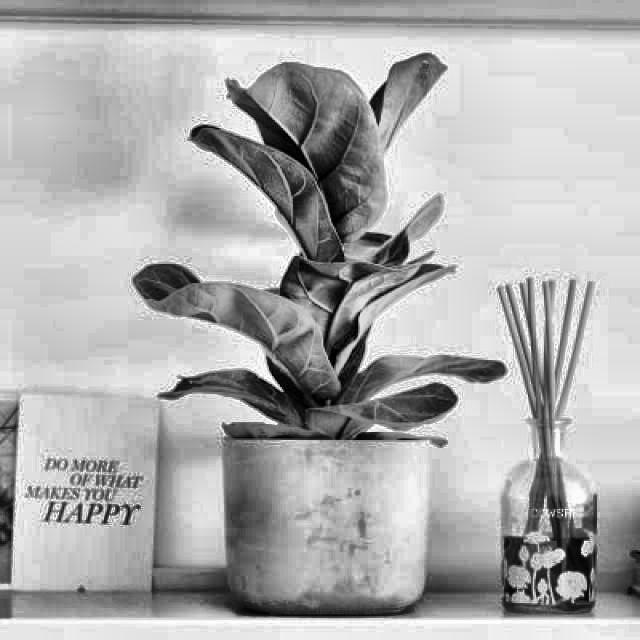plants: (162, 41, 436, 616)
